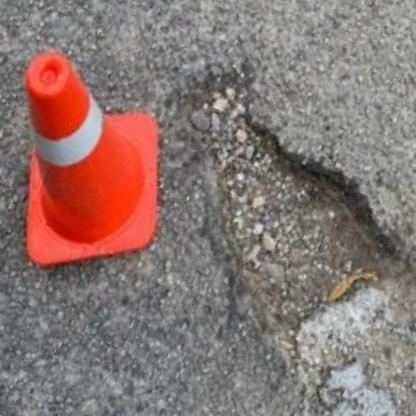pothole: (159, 100, 416, 369)
